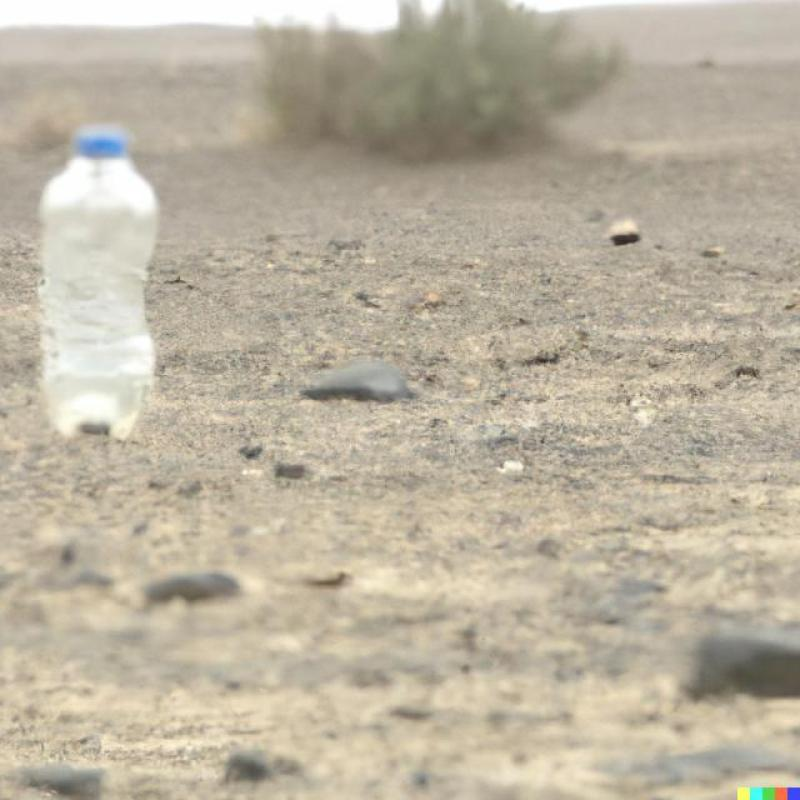botella: (32, 127, 163, 439)
